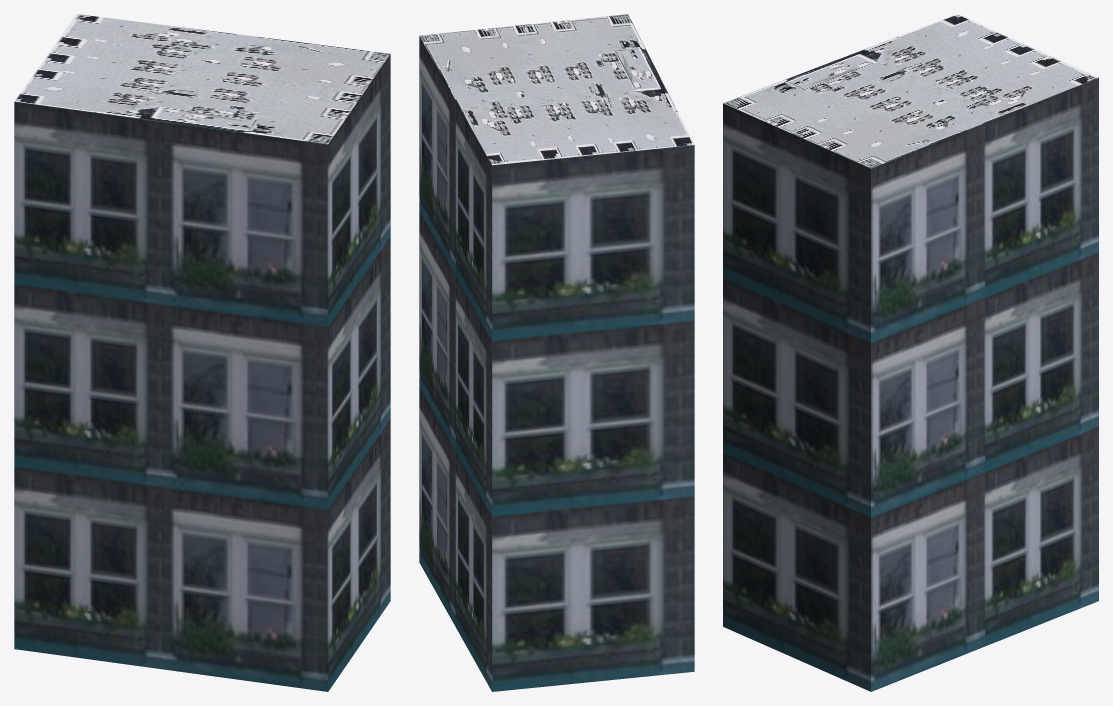
File: ResTex__5323.fbx
3 renders of one model, left to right at view 1: azimuth 30°, elevation 25°; view 2: azimuth 150°, elevation 25°; view 3: azimuth 270°, elevation 25°, orthographic. The views are drawn at different scales.
Parts seen in each view (by area): view 1: CityEngineMaterial_11_m, CityEngineMaterial_8_m; view 2: CityEngineMaterial_11_m, CityEngineMaterial_8_m; view 3: CityEngineMaterial_11_m, CityEngineMaterial_8_m.
Part boxes in pixels (<box>): CityEngineMaterial_11_m: <box>14,54,390,691</box>; CityEngineMaterial_8_m: <box>14,14,389,144</box>; CityEngineMaterial_11_m: <box>419,36,694,691</box>; CityEngineMaterial_8_m: <box>419,14,694,165</box>; CityEngineMaterial_11_m: <box>723,77,1098,691</box>; CityEngineMaterial_8_m: <box>723,14,1098,168</box>.
Bounding box in the file's own units: 5.7 × 9 × 5.86.
2 materials, 2 textured.
